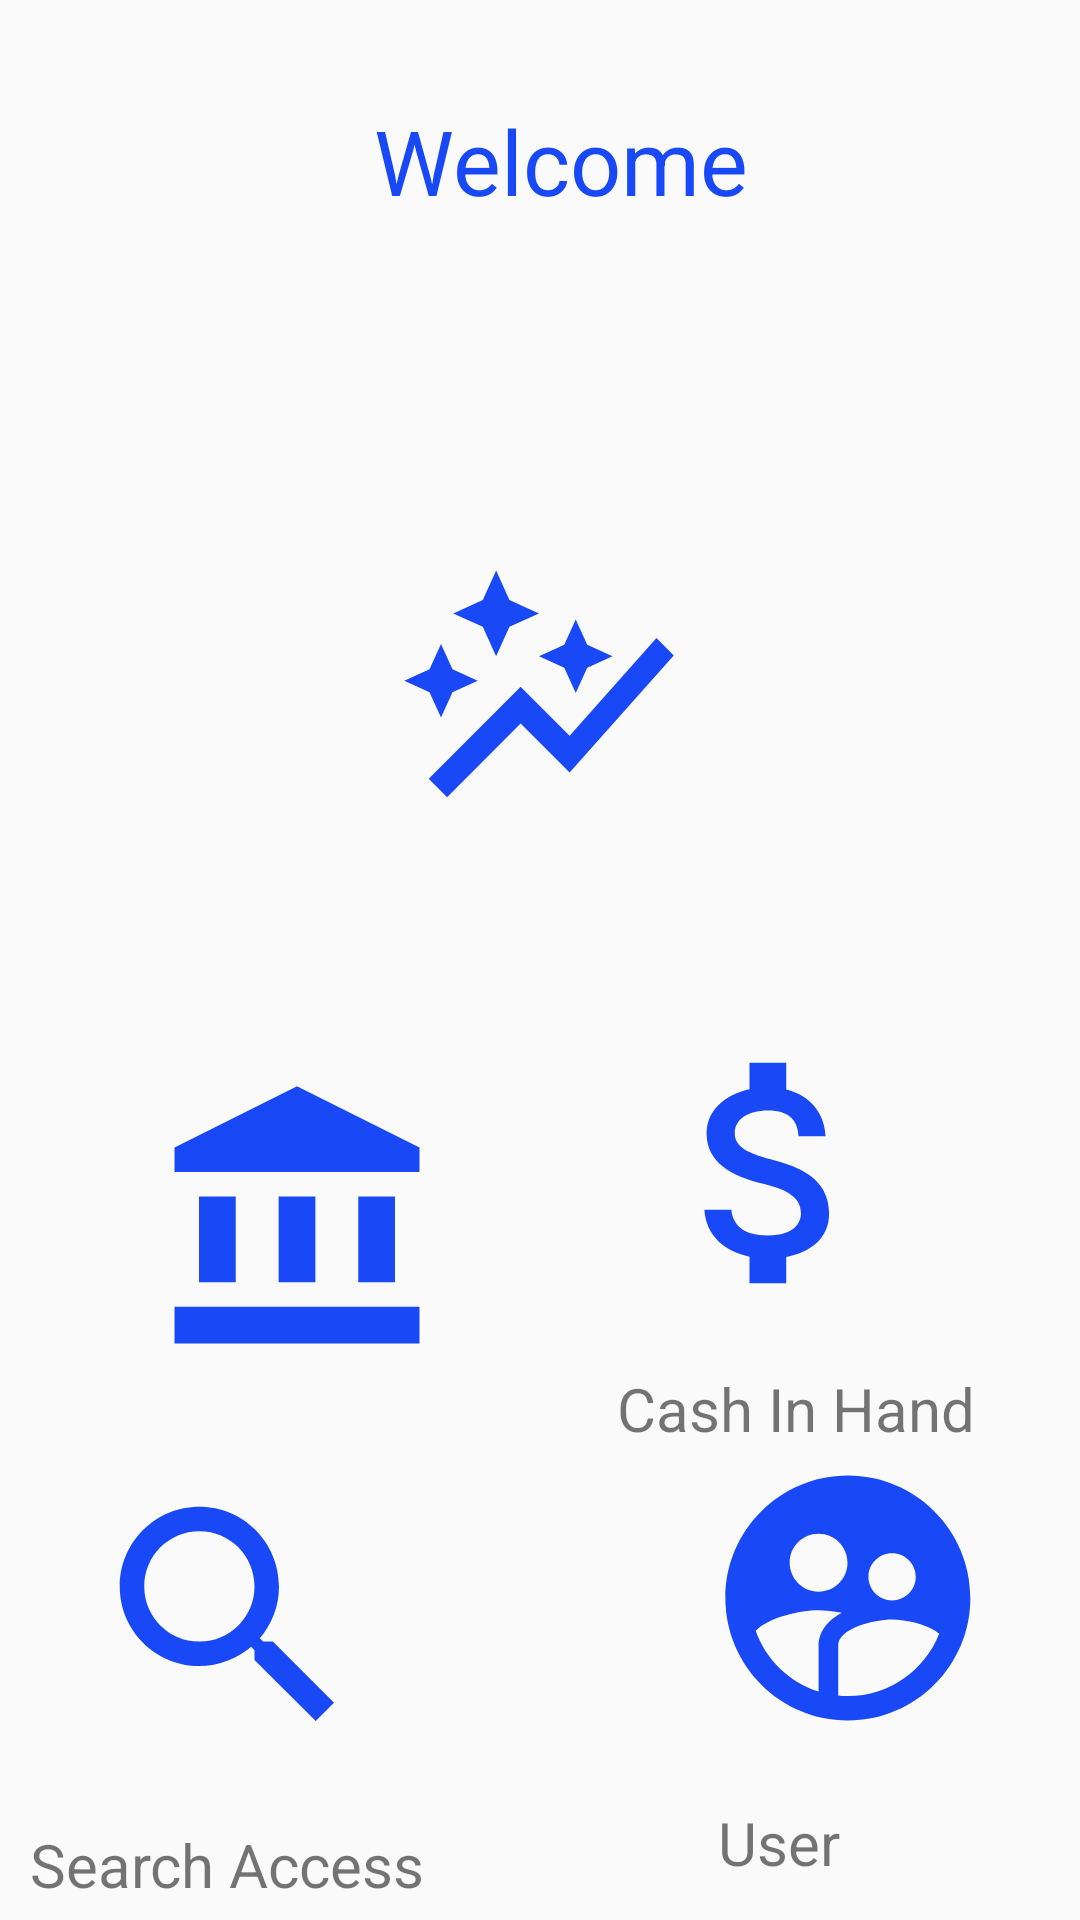

Where to tap for icons on this 1080px×1920px app screen, as (x,y):
bank: (297,1215)
graph: (539,684)
